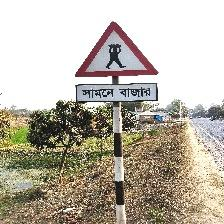Market-in-front: (74, 20, 160, 103)
